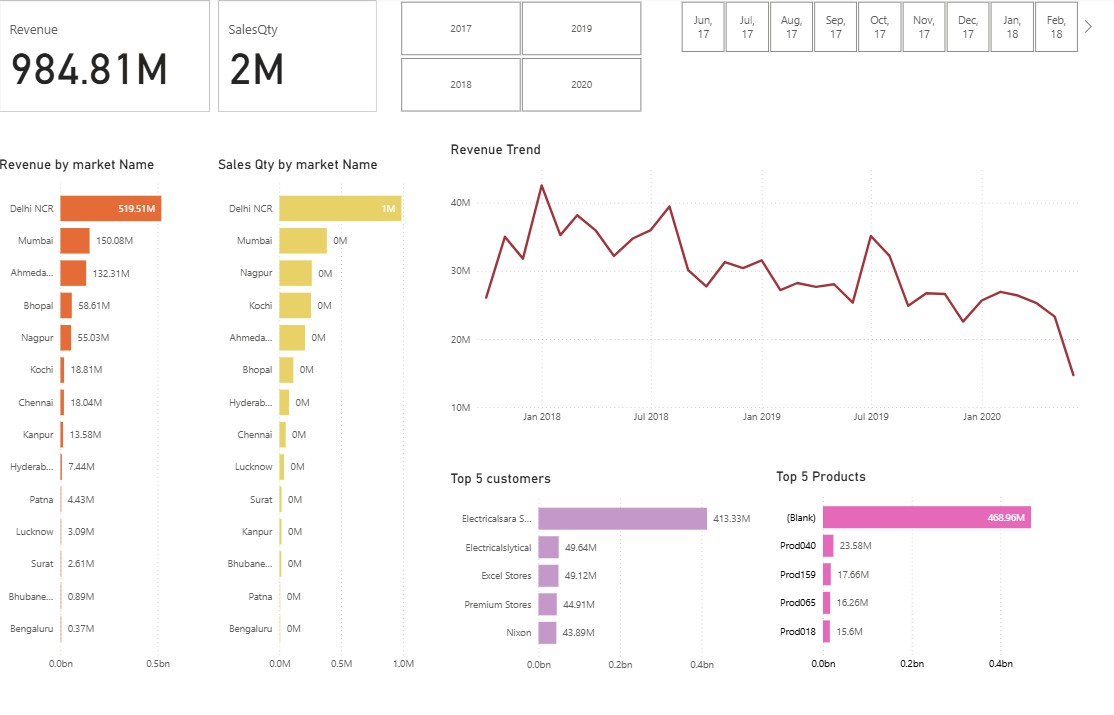

Layout of this report page (visuals, bound fields, positions):
{"tool":"powerbi","page":{"name":"Page 1","canvas":[1400,900],"ordinal":0},"visuals":[{"type":"cardVisual","fields":{"Data":["BaseMeasures.Revenue"]},"box":[0,0,272.1,149.3],"z":0},{"type":"cardVisual","fields":{"Data":["BaseMeasures.SalesQty"]},"box":[272.1,0,207.9,149.3],"z":1000},{"type":"barChart","title":"Revenue by market Name","fields":{"Y":["BaseMeasures.Revenue"],"Category":["sales markets.markets_name"]},"box":[0,200,272,648],"z":2000},{"type":"barChart","title":"Sales Qty by market Name","fields":{"Y":["BaseMeasures.SalesQty"],"Category":["sales markets.markets_name"]},"box":[272,200,274,648],"z":3000},{"type":"slicer","fields":{"Values":["sales date.year"]},"box":[480,0,348,150],"z":4000},{"type":"slicer","fields":{"Values":["sales date.cy_date"]},"box":[828,0,542,76],"z":5000},{"type":"barChart","title":"Top 5 customers","fields":{"Y":["BaseMeasures.Revenue"],"Category":["sales customers.custmer_name"]},"box":[562,590,404,260],"z":6000},{"type":"barChart","title":"Top 5 Products","fields":{"Y":["BaseMeasures.Revenue"],"Category":["sales products.product_code"]},"box":[966,588,390,260],"z":7000},{"type":"lineChart","title":"Revenue Trend","fields":{"Category":["sales date.cy_date"],"Y":["BaseMeasures.Revenue"]},"box":[562,180,808,360],"z":8000}]}

Visuals, with their boxes in screenshot pixels (x1, y1, x2, y2), scaled from the page's 1400x900 canvas onto the 1114x715 screenshot:
cardVisual - BaseMeasures.Revenue: Rect(0, 0, 217, 119)
cardVisual - BaseMeasures.SalesQty: Rect(217, 0, 382, 119)
"Revenue by market Name" barChart: Rect(0, 159, 216, 674)
"Sales Qty by market Name" barChart: Rect(216, 159, 434, 674)
slicer - sales date.year: Rect(382, 0, 659, 119)
slicer - sales date.cy_date: Rect(659, 0, 1090, 60)
"Top 5 customers" barChart: Rect(447, 469, 769, 675)
"Top 5 Products" barChart: Rect(769, 467, 1079, 674)
"Revenue Trend" lineChart: Rect(447, 143, 1090, 429)
